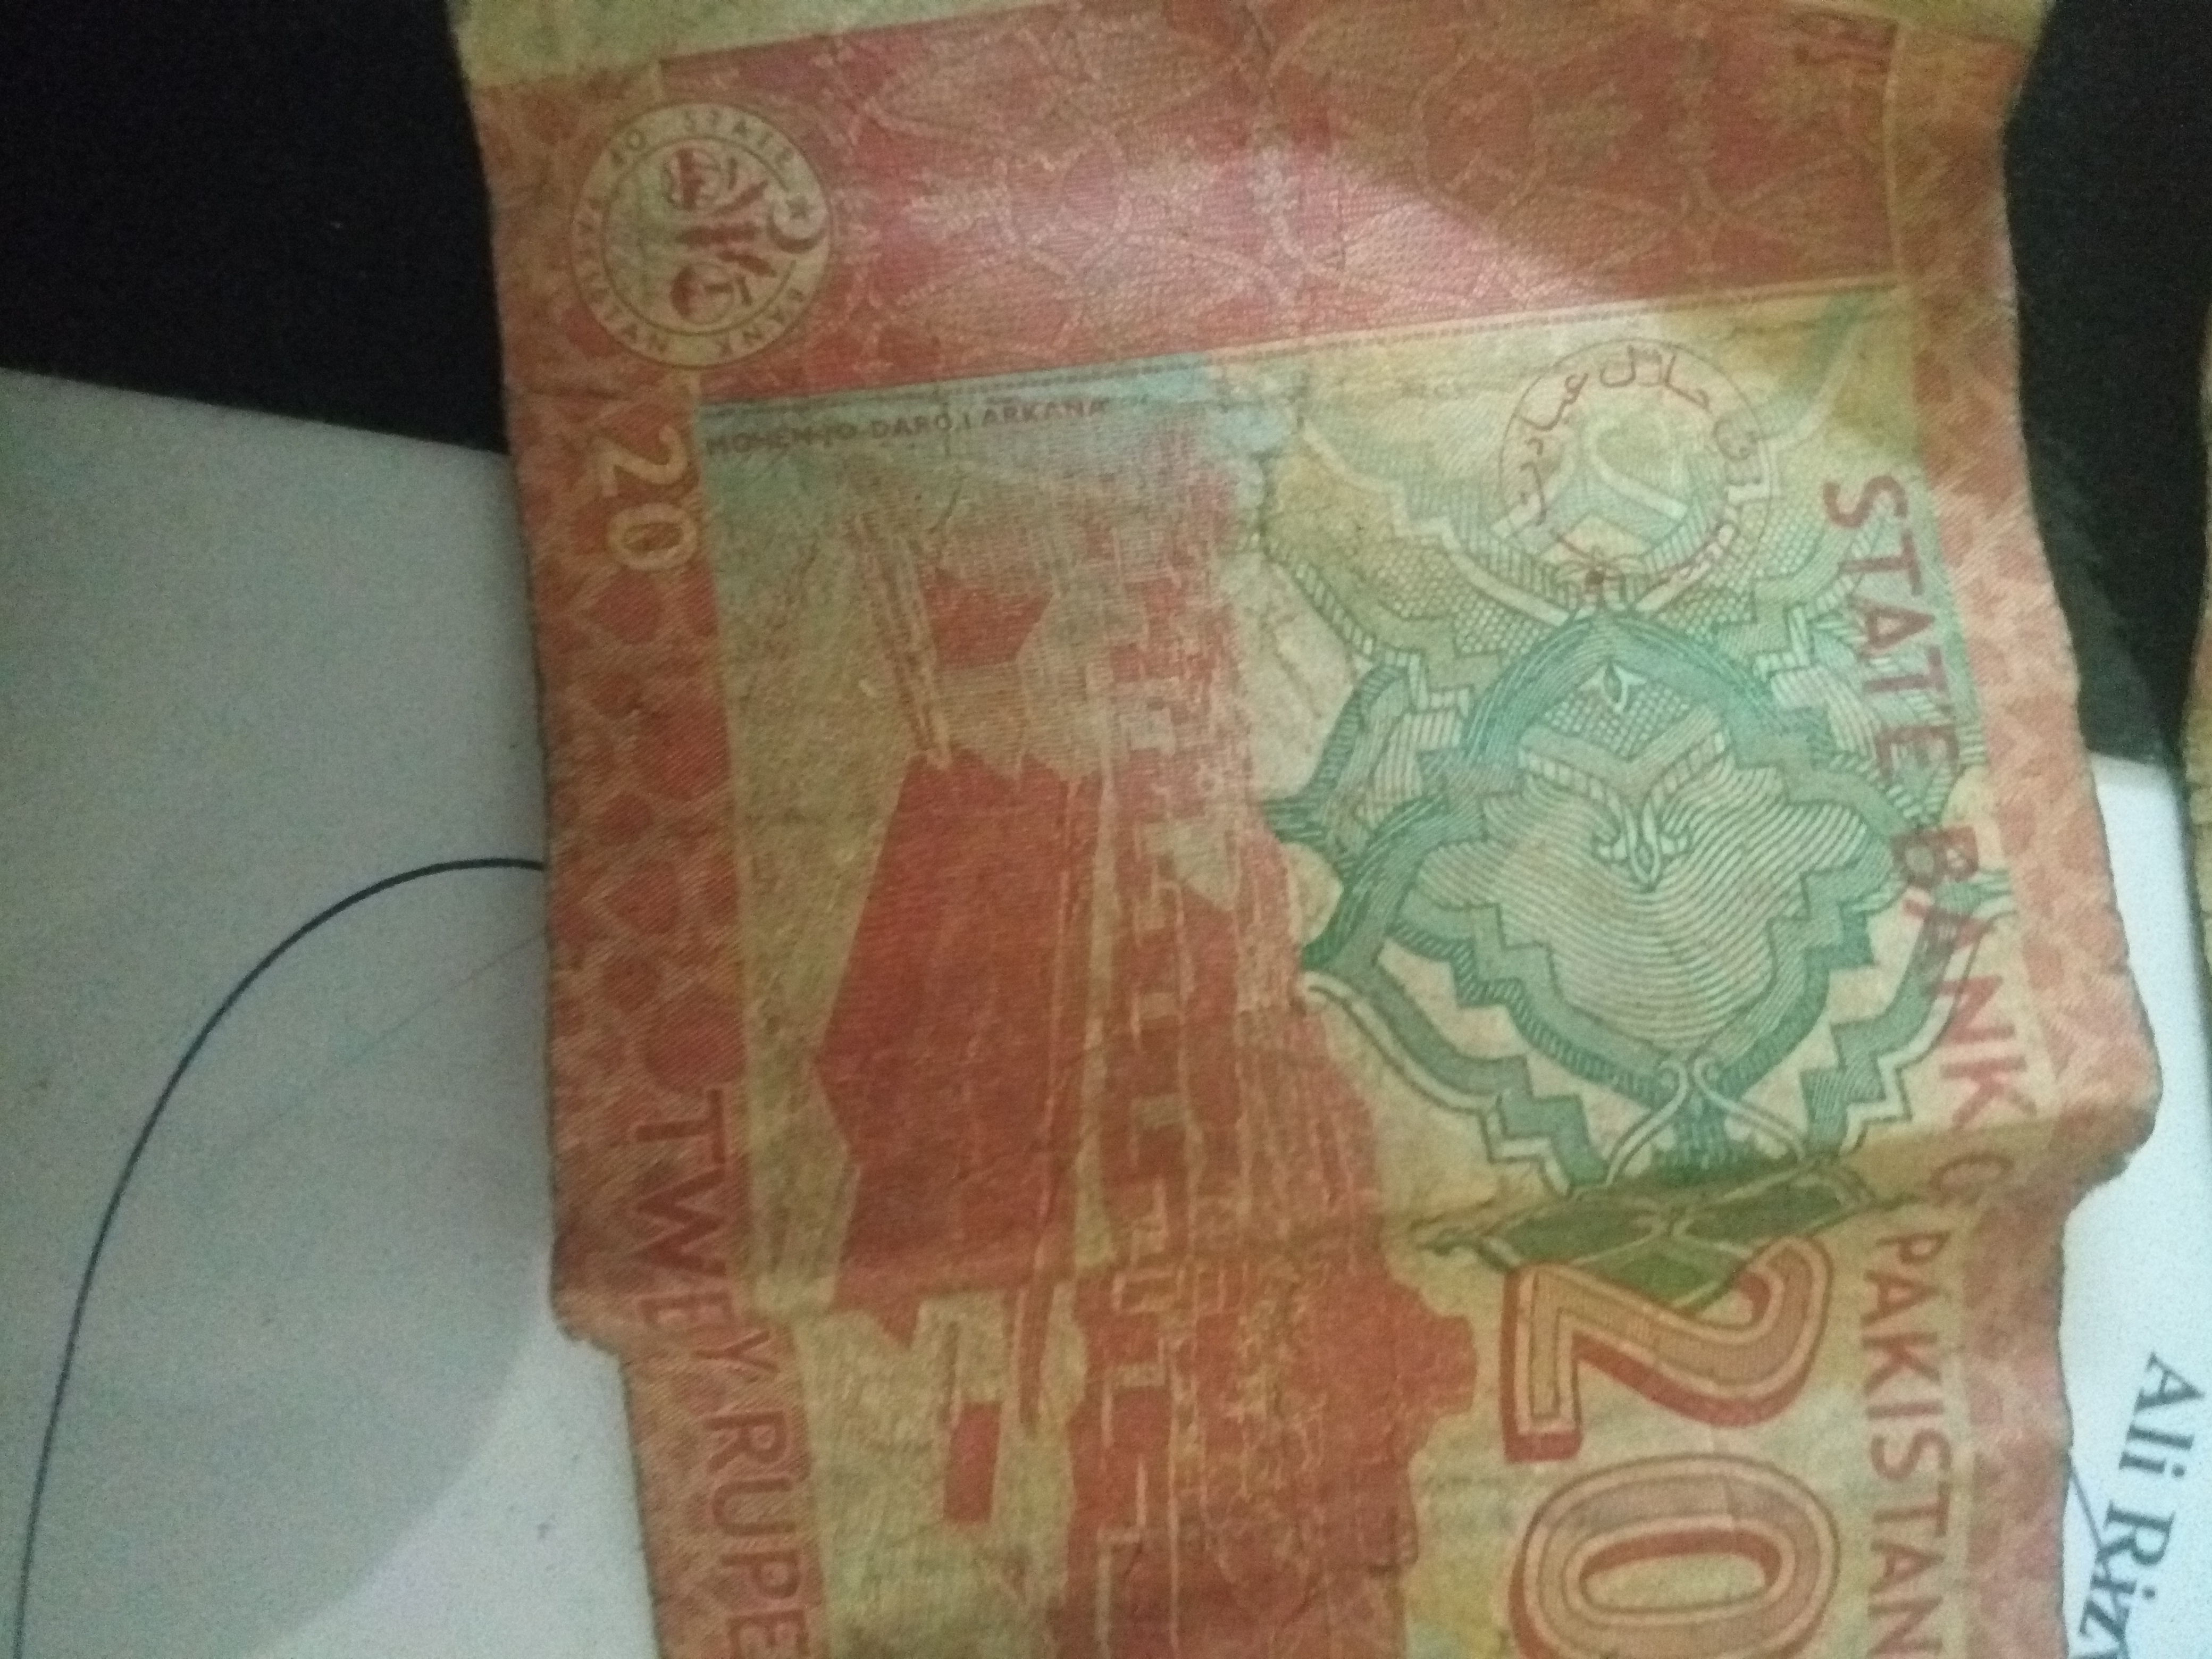20 rupee: (421, 38, 2148, 1659)
